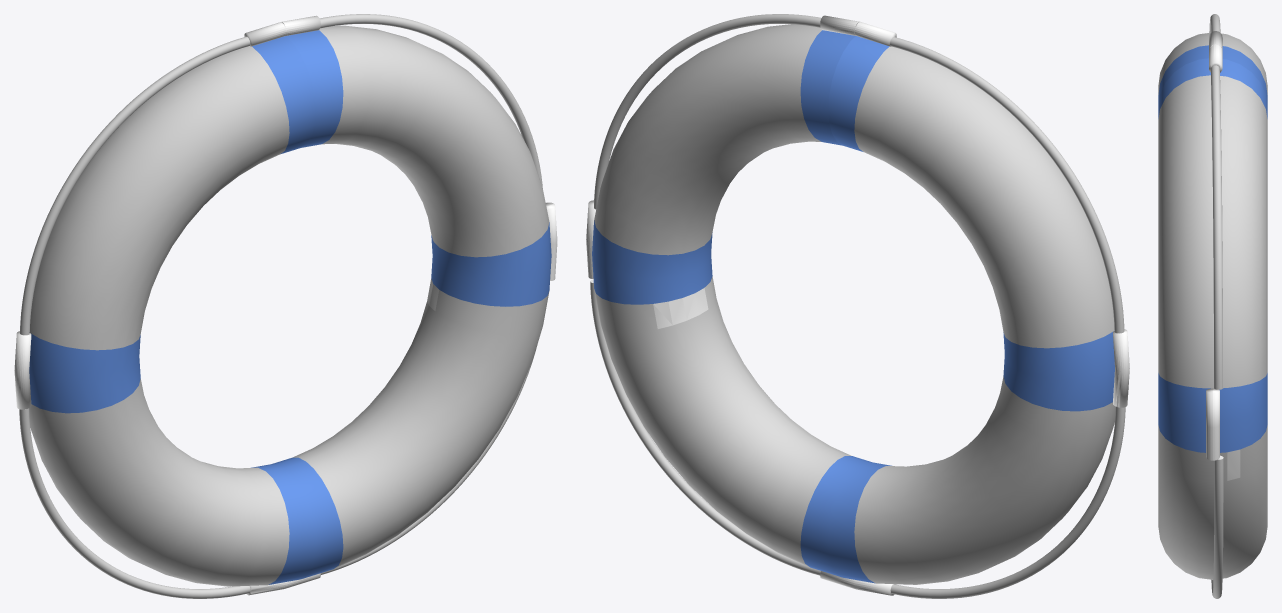
3 views of the same model, side by side, from view 1: azimuth 30°, elevation 25°; view 2: azimuth 150°, elevation 25°; view 3: azimuth 270°, elevation 25° (orthographic). The views are drawn at different scales.
Visible parts, largest first — view 1: Group_001; view 2: Group_001; view 3: Group_001.
Boxes of the visible parts, bbox=[...] form: Group_001: bbox=[14, 14, 557, 598]; Group_001: bbox=[586, 14, 1129, 598]; Group_001: bbox=[1158, 14, 1267, 598].
Bounding box in the file's own units: 31.49 × 31.49 × 6.
